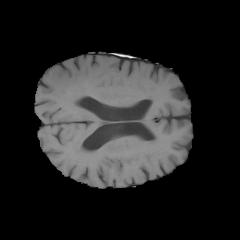glioma: (50, 68, 86, 106)
